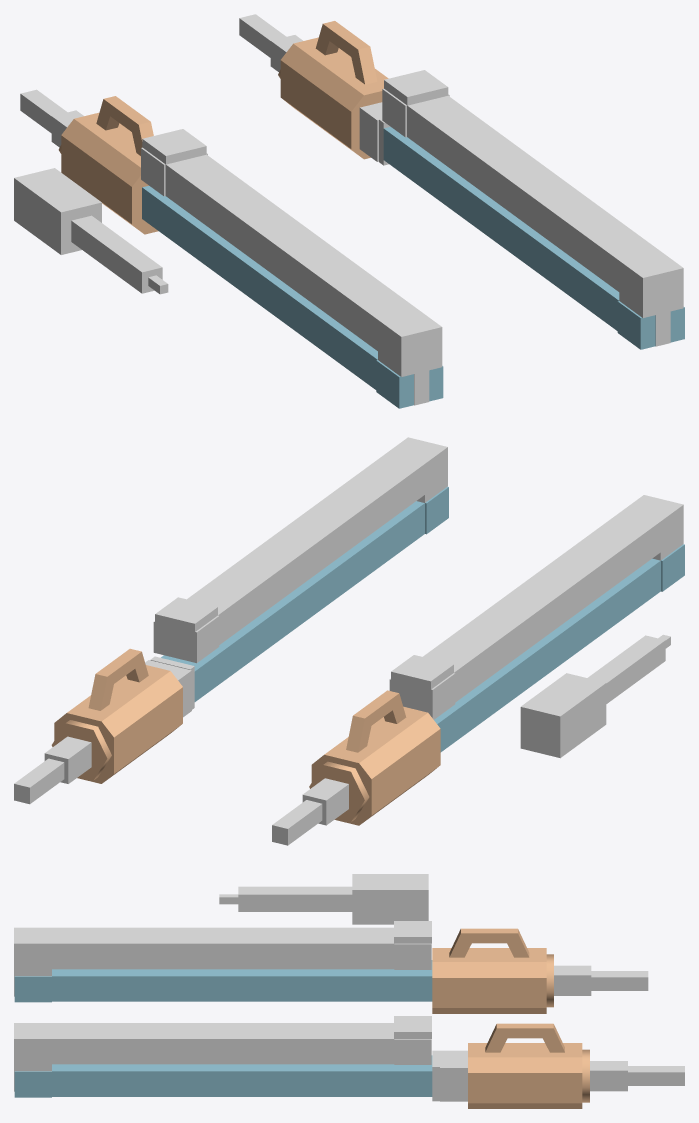
File: scraft_drill_1.FBX
3 views of the same model, one above another, from view 1: azimuth 30°, elevation 25°; view 2: azimuth 150°, elevation 25°; view 3: azimuth 270°, elevation 25° (orthographic). The views are drawn at different scales.
Parts seen in each view (by area): view 1: Box021, Box007, Box020, Box012, 对象004, 对象002, Box001, Box002, Box019, Box018, Box005, Box022 (+3 smaller); view 2: Box021, Box007, Box020, 对象002, 对象004, Box012, Box001, Box019, Box018, Box002, Box022, Box005 (+1 smaller); view 3: Box007, Box021, Box020, Box012, 对象002, 对象004, Box001, Box002, Box019, Box018, 对象005, Box005 (+2 smaller).
Boxes of the visible parts, x1=… form: Box021: x1=382, y1=88, x2=683, y2=309; Box007: x1=141, y1=147, x2=442, y2=368; Box020: x1=383, y1=126, x2=684, y2=349; Box012: x1=142, y1=186, x2=443, y2=408; 对象004: x1=278, y1=21, x2=388, y2=159; 对象002: x1=58, y1=96, x2=158, y2=234; Box001: x1=14, y1=168, x2=101, y2=254; Box002: x1=71, y1=215, x2=162, y2=293; Box019: x1=239, y1=14, x2=302, y2=71; Box018: x1=20, y1=89, x2=83, y2=147; Box005: x1=142, y1=129, x2=206, y2=164; Box022: x1=384, y1=70, x2=448, y2=105; Box021: x1=153, y1=437, x2=447, y2=663; Box007: x1=389, y1=495, x2=683, y2=719; Box020: x1=161, y1=486, x2=448, y2=701; 对象002: x1=309, y1=690, x2=440, y2=825; 对象004: x1=51, y1=648, x2=182, y2=783; Box012: x1=434, y1=544, x2=684, y2=752; Box001: x1=520, y1=673, x2=606, y2=758; Box019: x1=14, y1=736, x2=91, y2=804; Box018: x1=272, y1=778, x2=348, y2=845; Box002: x1=587, y1=635, x2=665, y2=703; Box022: x1=155, y1=597, x2=217, y2=659; Box005: x1=391, y1=655, x2=453, y2=709; Box007: x1=14, y1=927, x2=431, y2=969; Box021: x1=14, y1=1023, x2=431, y2=1064; Box020: x1=14, y1=1055, x2=432, y2=1097; Box012: x1=14, y1=960, x2=432, y2=1002; 对象002: x1=432, y1=928, x2=553, y2=1013; 对象004: x1=468, y1=1023, x2=589, y2=1108; Box001: x1=352, y1=874, x2=428, y2=924; Box002: x1=238, y1=886, x2=352, y2=911; Box019: x1=590, y1=1061, x2=684, y2=1091; Box018: x1=554, y1=965, x2=648, y2=995; 对象005: x1=440, y1=1050, x2=467, y2=1101; Box005: x1=394, y1=921, x2=431, y2=943.
Bounding box in the file's own units: 263 × 57.41 × 448.
